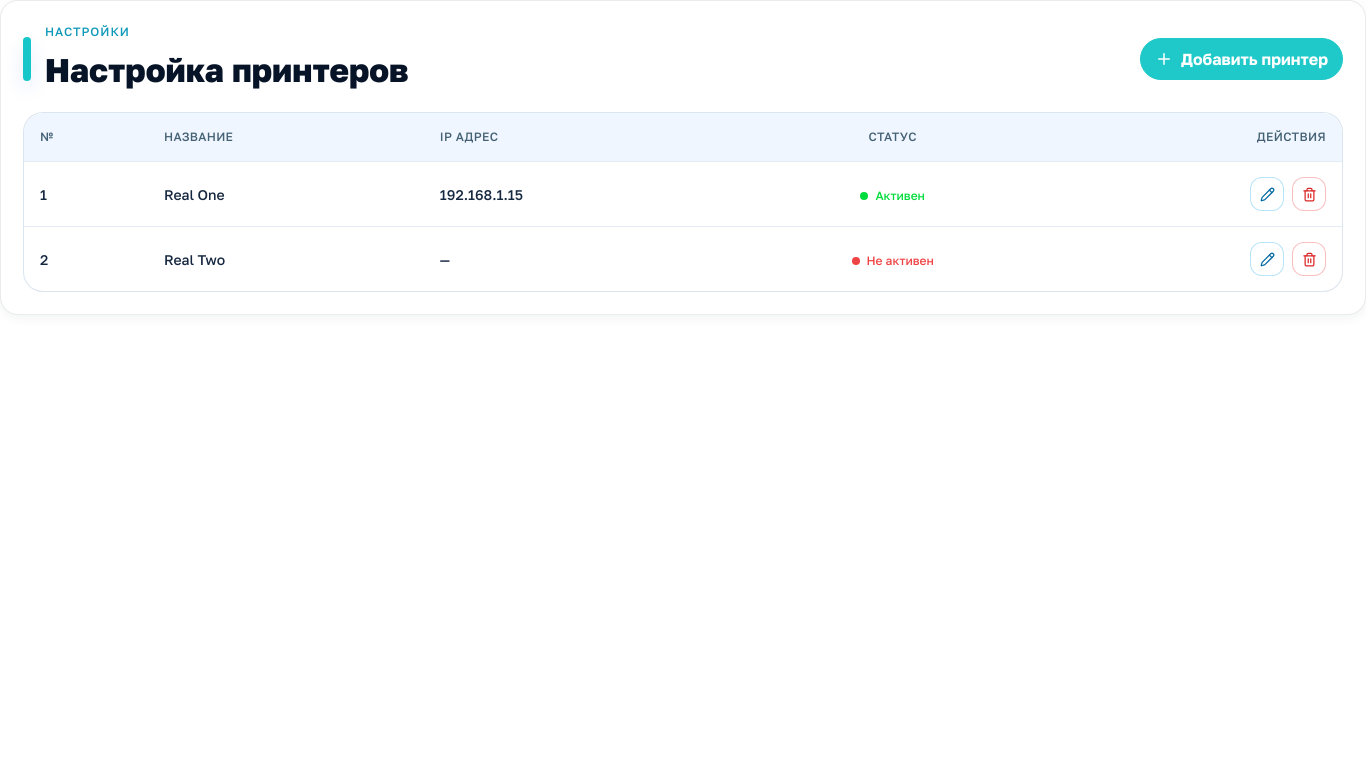
SettingsPrintersPage (simplified V2) › requires confirmation before delete and cancels with zero requests
The image size is (1366, 768).
Expected: the text "Real One" is shown, x1=148 y1=161 x2=424 y2=226
What coordinates should you click on to do the following:
click the button named "Удалить"
I would click on:
 (1309, 194)
Its box is x1=1292 y1=177 x2=1326 y2=211.
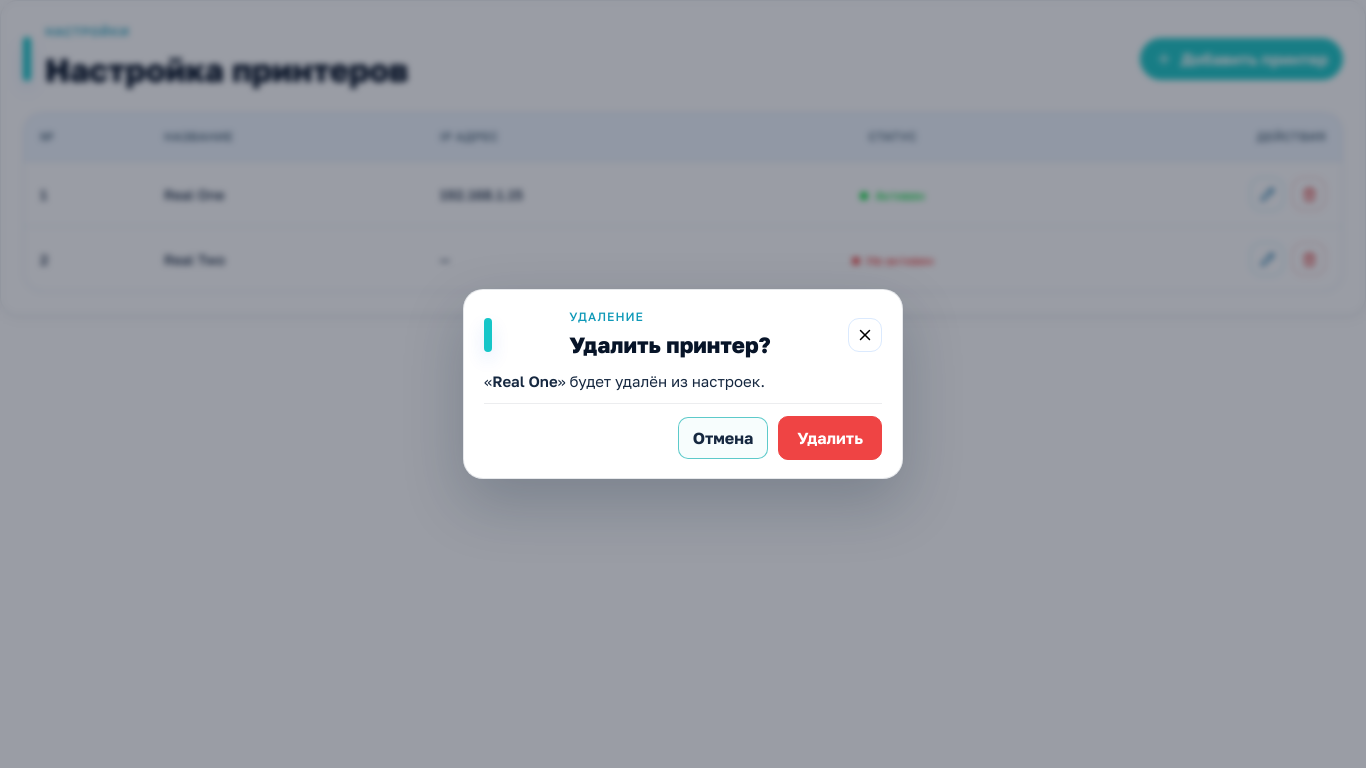
Expected: the heading "Удалить принтер?" is shown, x1=569 y1=328 x2=771 y2=361
Expected: the text "«Real One» будет удалён из настроек." is shown, x1=484 y1=372 x2=765 y2=390
What coordinates should you click on to do the following:
click the button "Отмена"
I would click on:
 (723, 438)
Its box is x1=678 y1=417 x2=768 y2=459.
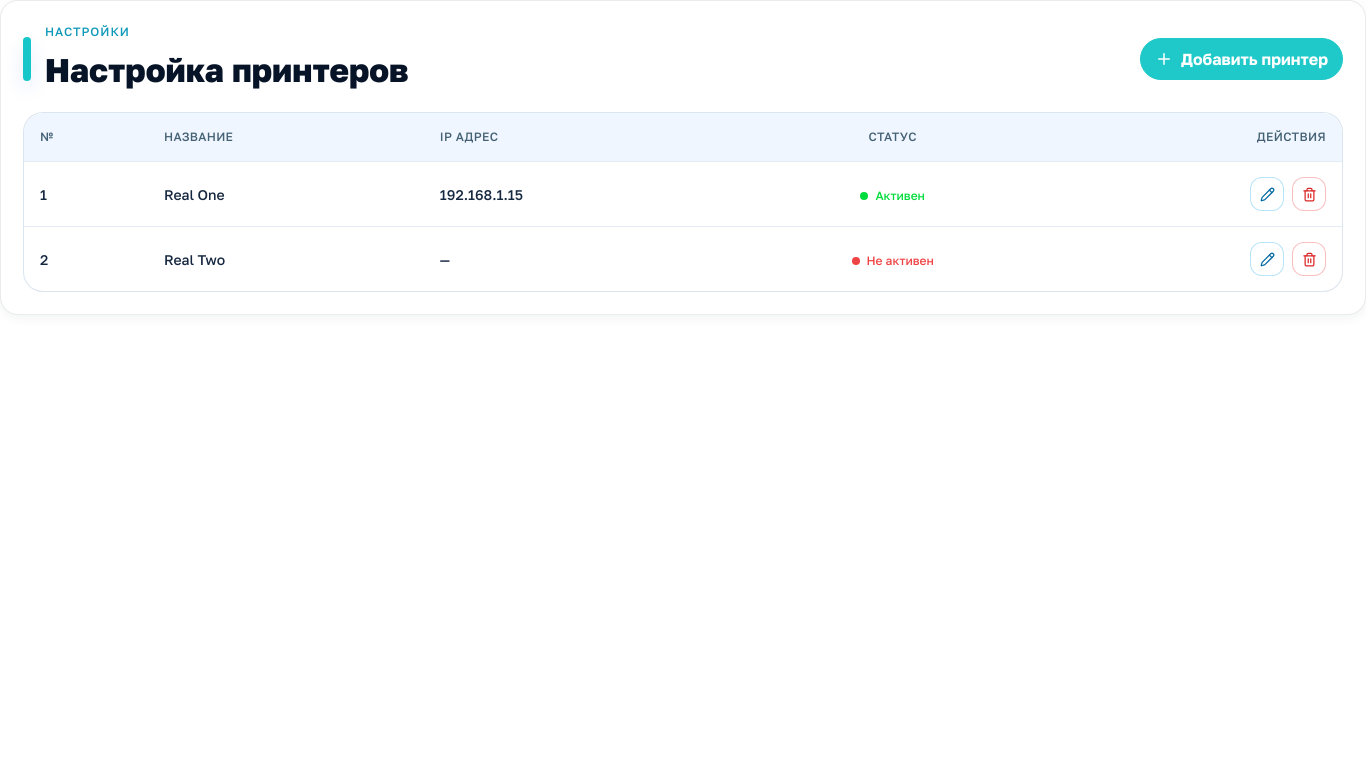
Expected: the text "Real One" is shown, x1=148 y1=161 x2=424 y2=226
What coordinates should you click on to do the following:
click the button named "Удалить"
I would click on:
 (1309, 194)
Its box is x1=1292 y1=177 x2=1326 y2=211.
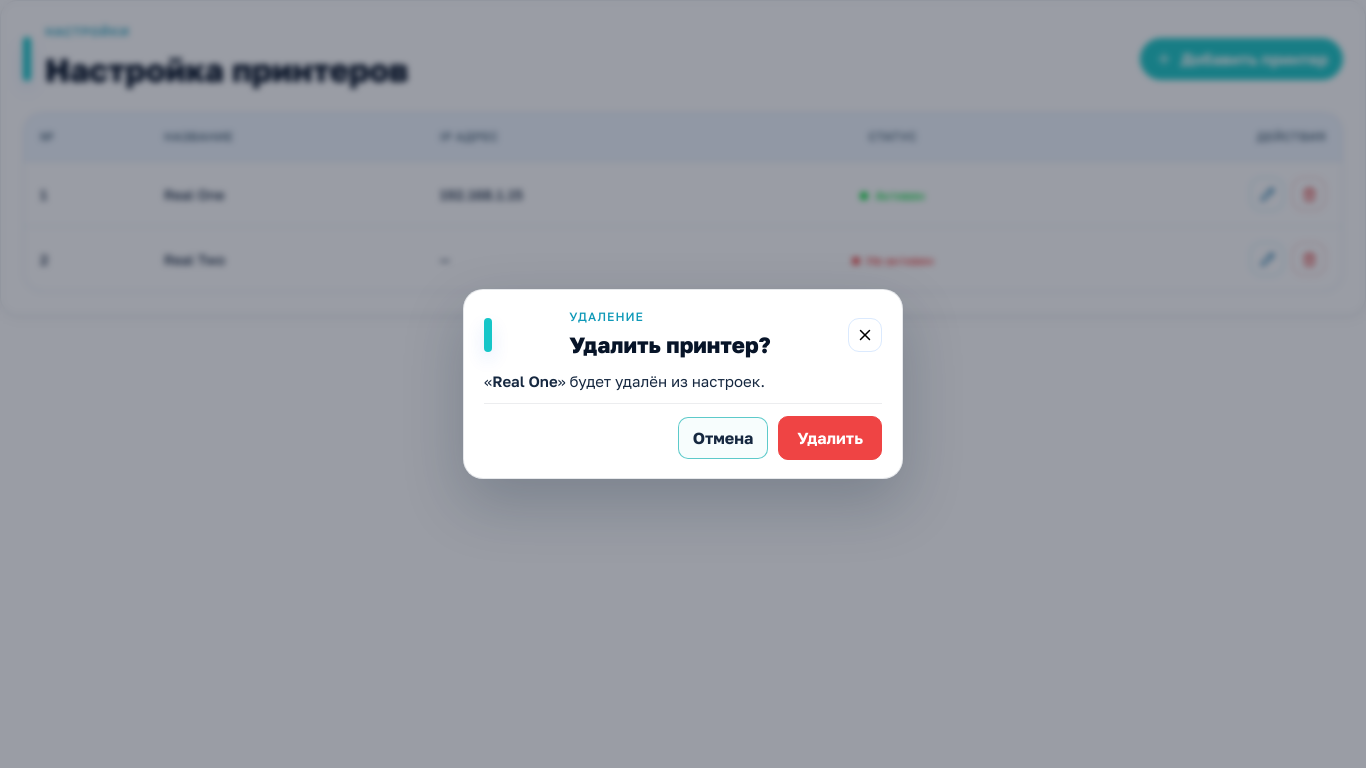
What coordinates should you click on to do the following:
click the button "Удалить"
I would click on:
 (830, 438)
Its box is x1=778 y1=416 x2=882 y2=460.
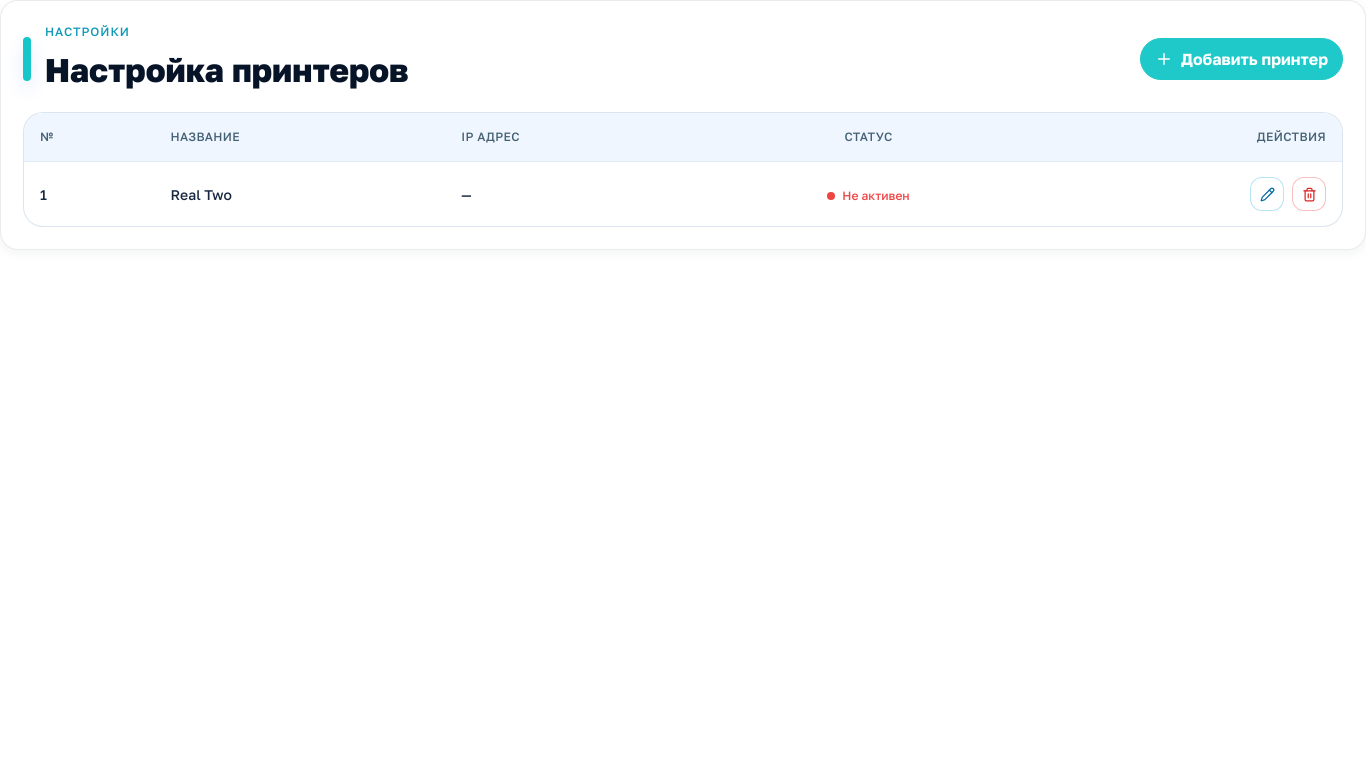
Expected: the text "Real One" is gone
